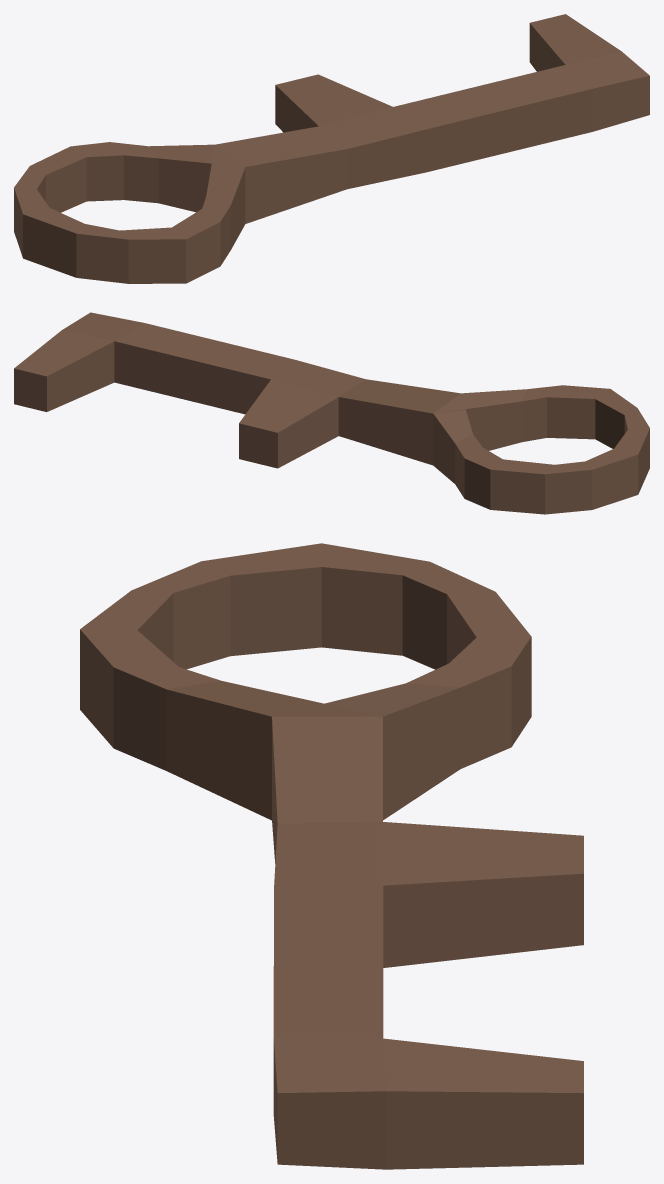
Rendered from BlackBronzeKey.glb.
3 views of the same model, one above another, from view 1: azimuth 30°, elevation 25°; view 2: azimuth 150°, elevation 25°; view 3: azimuth 270°, elevation 25° (orthographic). The views are drawn at different scales.
Visible parts, largest first — view 1: BlackBronzeKey__Cube; view 2: BlackBronzeKey__Cube; view 3: BlackBronzeKey__Cube.
Part boxes in pixels (left/top/right/bottom): BlackBronzeKey__Cube: left=14, top=14, right=649, bottom=283; BlackBronzeKey__Cube: left=14, top=312, right=649, bottom=514; BlackBronzeKey__Cube: left=80, top=543, right=583, bottom=1169.
Bounding box in the file's own units: 0.85 × 0.0753 × 0.3309.
